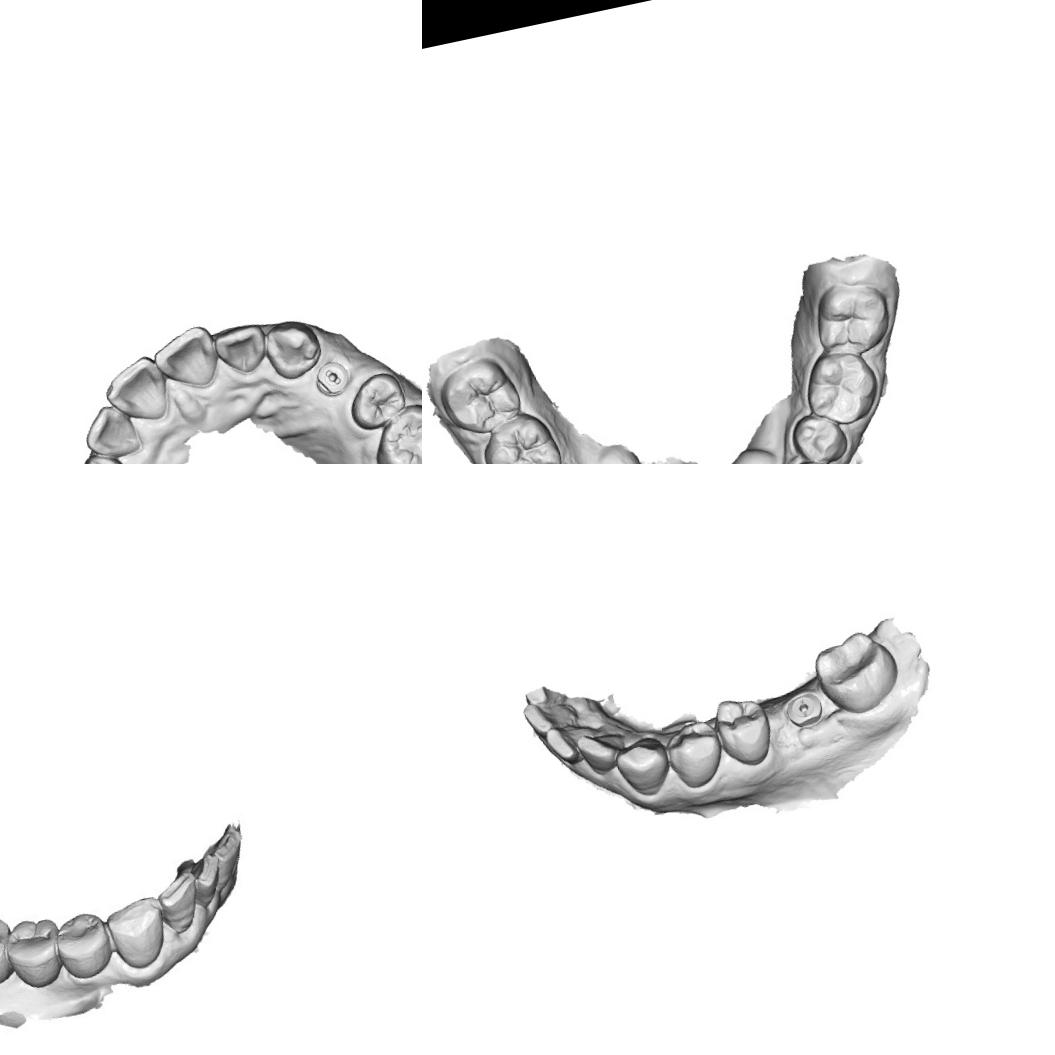canine: (104, 893, 172, 972), (260, 314, 326, 384), (612, 733, 674, 802), (73, 446, 141, 464)
implant_minus: (785, 687, 825, 732), (312, 359, 352, 399)
incisor: (98, 351, 173, 429), (148, 322, 222, 398), (78, 399, 144, 464), (210, 318, 272, 379), (572, 719, 635, 779), (522, 688, 588, 739), (154, 872, 202, 932), (188, 851, 233, 911), (542, 720, 584, 768)
molar: (808, 623, 906, 722), (433, 352, 527, 442), (807, 273, 898, 363), (797, 342, 886, 432), (475, 406, 569, 464), (363, 396, 422, 464), (0, 908, 18, 994)
premolar: (708, 690, 779, 772), (659, 718, 728, 792), (51, 908, 117, 984), (343, 367, 413, 436), (0, 914, 62, 987), (786, 406, 852, 464)
